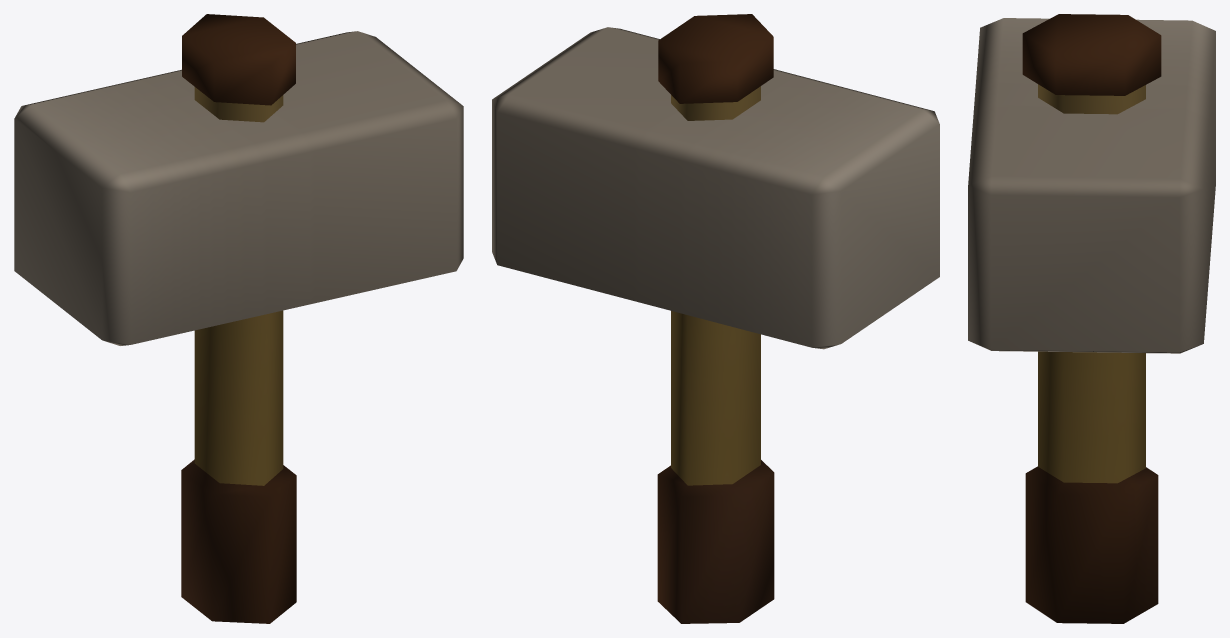
Rendered from Mallet.fbx.
The picture shows the model from 3 angles, left to right: view 1: azimuth 30°, elevation 25°; view 2: azimuth 150°, elevation 25°; view 3: azimuth 270°, elevation 25°; orthographic projection.
Visible parts, largest first — view 1: Mallet.001; view 2: Mallet.001; view 3: Mallet.001.
Boxes of the visible parts, bbox=[...] form: Mallet.001: bbox=[14, 14, 463, 623]; Mallet.001: bbox=[492, 14, 939, 623]; Mallet.001: bbox=[968, 14, 1215, 623].
Bounding box in the file's own units: 0.3042 × 0.4521 × 0.1786.
Materials: 1 (1 with a texture image).
